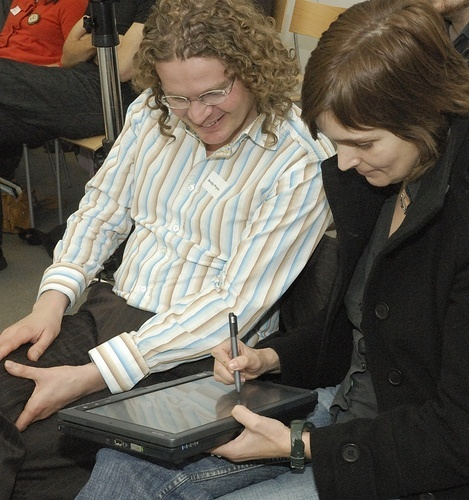head: (297, 46, 452, 196), (130, 4, 277, 153)
person: (1, 1, 352, 493), (192, 11, 469, 480)
